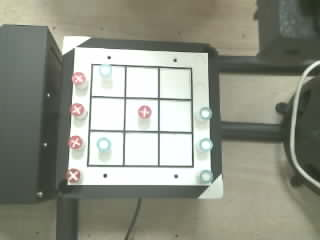blue circle: (97, 137, 111, 152), (199, 138, 212, 151), (99, 64, 111, 77), (200, 170, 212, 183), (200, 107, 212, 119)
board: (66, 47, 214, 185)
cells: (89, 132, 122, 165), (125, 133, 157, 165), (90, 98, 123, 129), (160, 134, 192, 165), (92, 65, 124, 96), (160, 100, 191, 131), (126, 99, 157, 130), (126, 67, 157, 97), (160, 68, 190, 98)
grid: (87, 64, 193, 167)
red cross: (65, 168, 80, 182), (68, 136, 82, 149), (70, 103, 84, 116), (138, 105, 151, 118), (72, 72, 85, 85)
